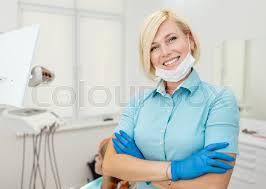Wore Mask Incorrectly: (137, 16, 206, 92)
